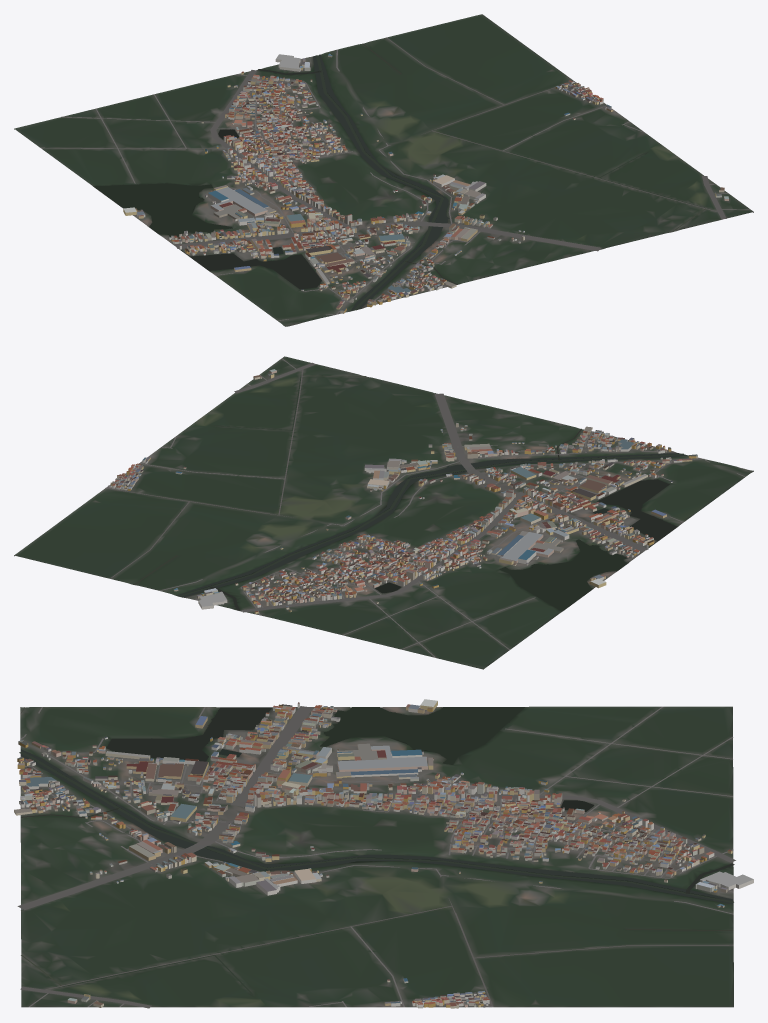
The picture shows the model from 3 angles, top to bottom: view 1: azimuth 30°, elevation 25°; view 2: azimuth 150°, elevation 25°; view 3: azimuth 270°, elevation 25°; orthographic projection. The views are drawn at different scales.
Visible parts, largest first — view 1: ground, buildings, water, roads; view 2: ground, buildings, water, roads; view 3: ground, buildings, water, roads.
Part boxes in pixels (x1,y1,x2,y2): ground: (14, 14, 753, 326); buildings: (123, 53, 728, 313); water: (94, 43, 705, 325); roads: (41, 37, 750, 320); ground: (14, 356, 753, 669); buildings: (109, 369, 697, 613); water: (134, 375, 751, 611); roads: (105, 358, 745, 657); ground: (20, 706, 733, 1007); buildings: (14, 699, 753, 1008); water: (19, 707, 734, 994); roads: (17, 706, 735, 1008).
Bounding box in the file's own units: 1424 × 32.94 × 1456.
